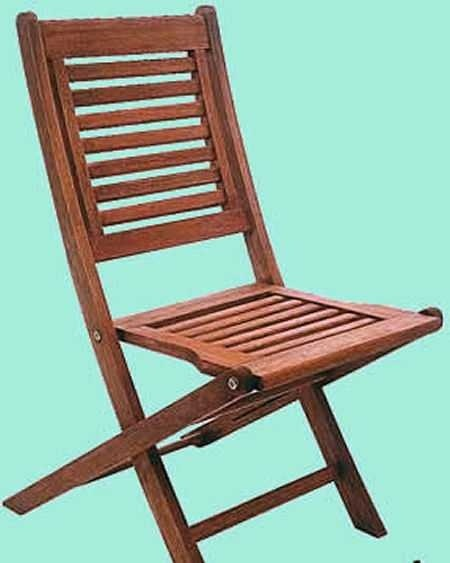obstacle: (2, 0, 447, 497), (199, 319, 447, 562), (164, 403, 322, 522), (2, 470, 169, 562)
